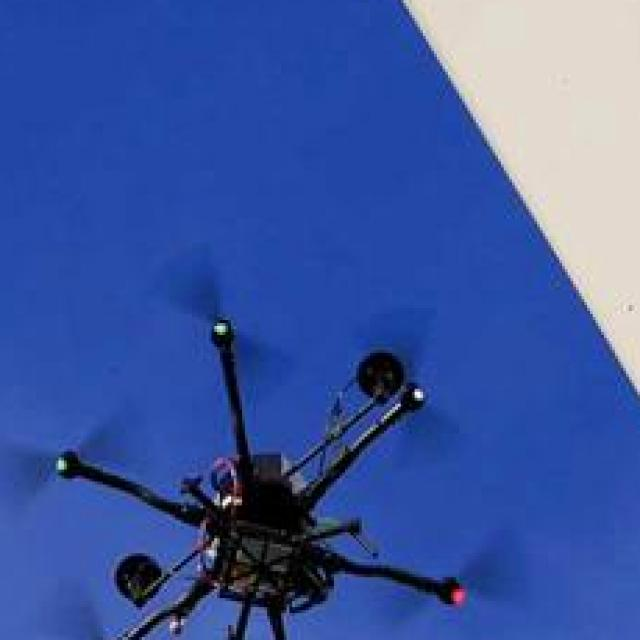drone: (0, 239, 529, 640)
